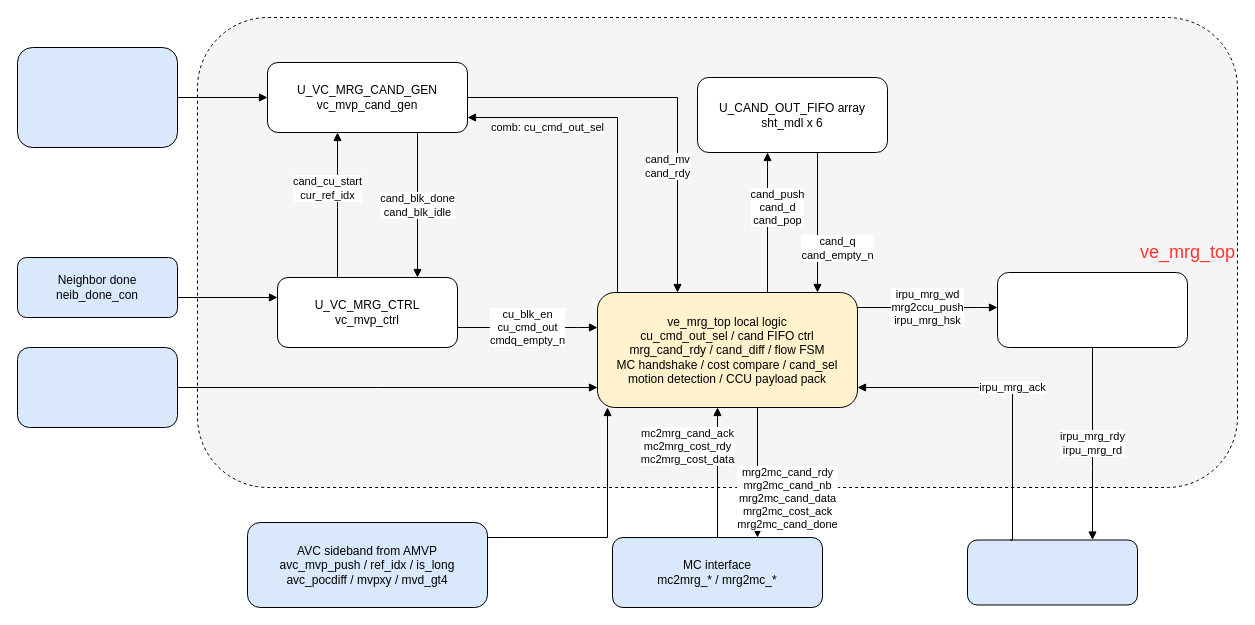
Some shapes in this 1255 by 625 pixel diagram are drawn without their labels. Here are the shapes that lost their labels. From the top down, the centre of each, then its label:
(x=97, y=97): Neighbor candidate inputs neib_a, neib_b col_c, col_c_avail reflist_info
(x=1092, y=310): U_MRG2CCU_FIFO array sht_mdl x 3
(x=97, y=387): Neighbor sram blk8 / blk16 / blk32 neib a,b
(x=1052, y=572): CCU interface irpu_mrg_ack / rdy / rd
